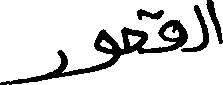ا: (206, 0, 221, 45)
ر: (0, 48, 68, 83)
ص: (120, 7, 146, 56)
ق: (145, 5, 186, 53)
ل: (191, 0, 208, 52)
و: (93, 26, 118, 71)
